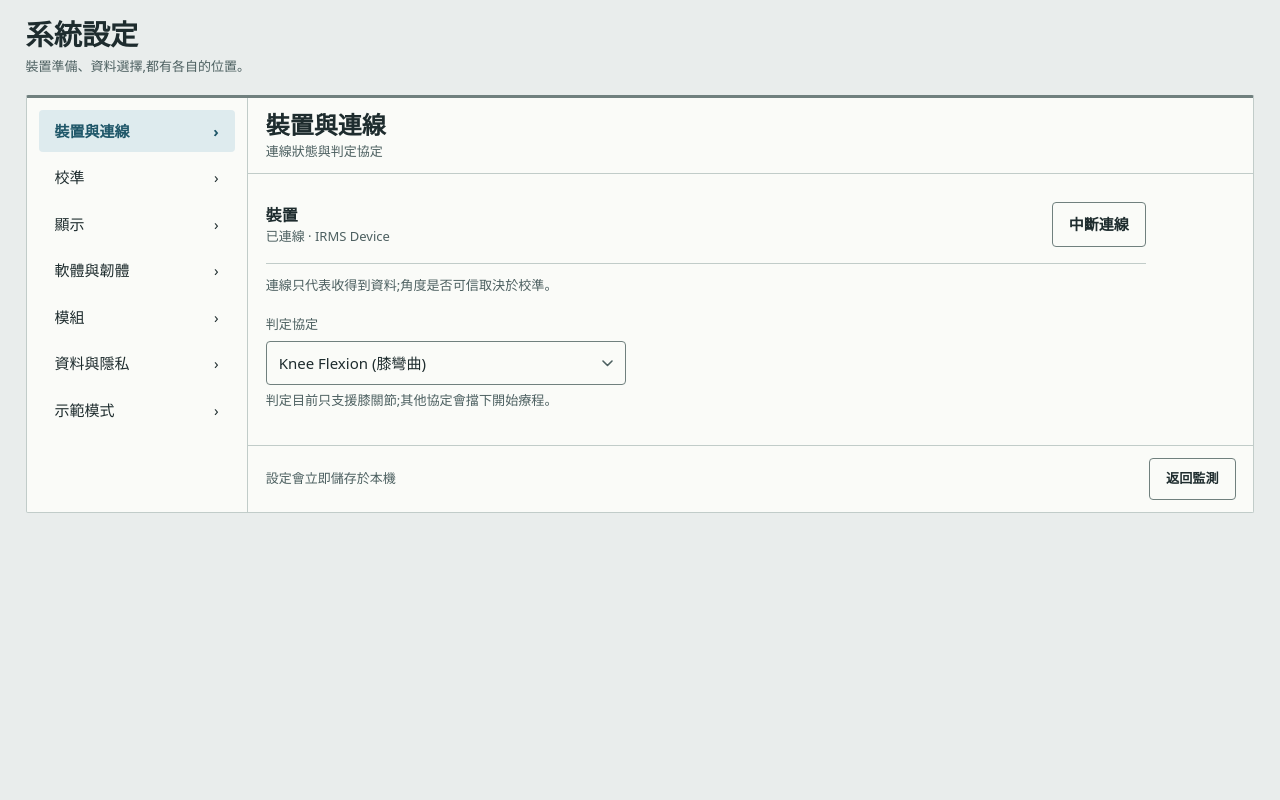
Test: SettingsView 韌體 OTA 面板:進度旅程 › 失敗時顯示錯誤文字,不冒充成功
This screenshot has width=1280, height=800.
What coordinates should you click on to do the following:
click the button "軟體與韌體 ›"
I would click on:
 (137, 270)
Its box is [39,249,235,292].
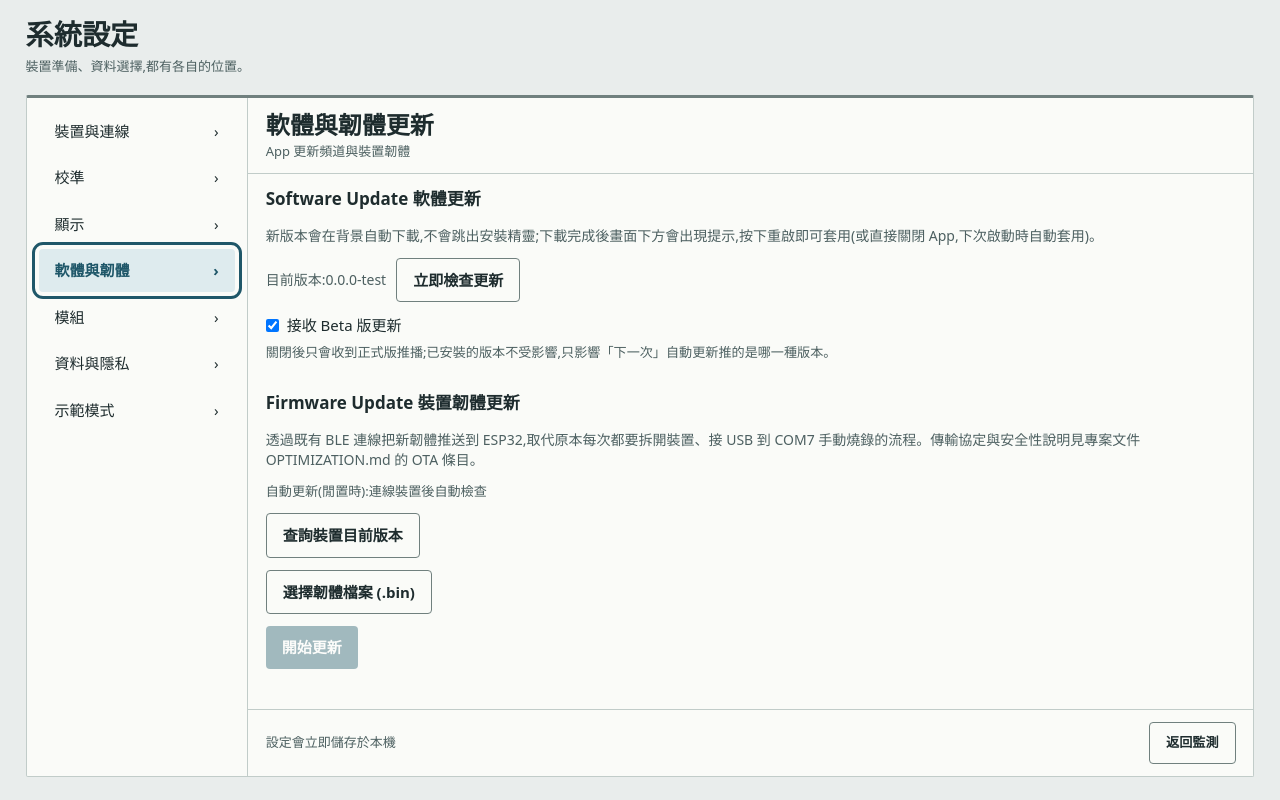
What coordinates should you click on to do the following:
click the button "選擇韌體檔案 (.bin)"
I would click on:
 (349, 592)
Its box is [266,570,432,614].
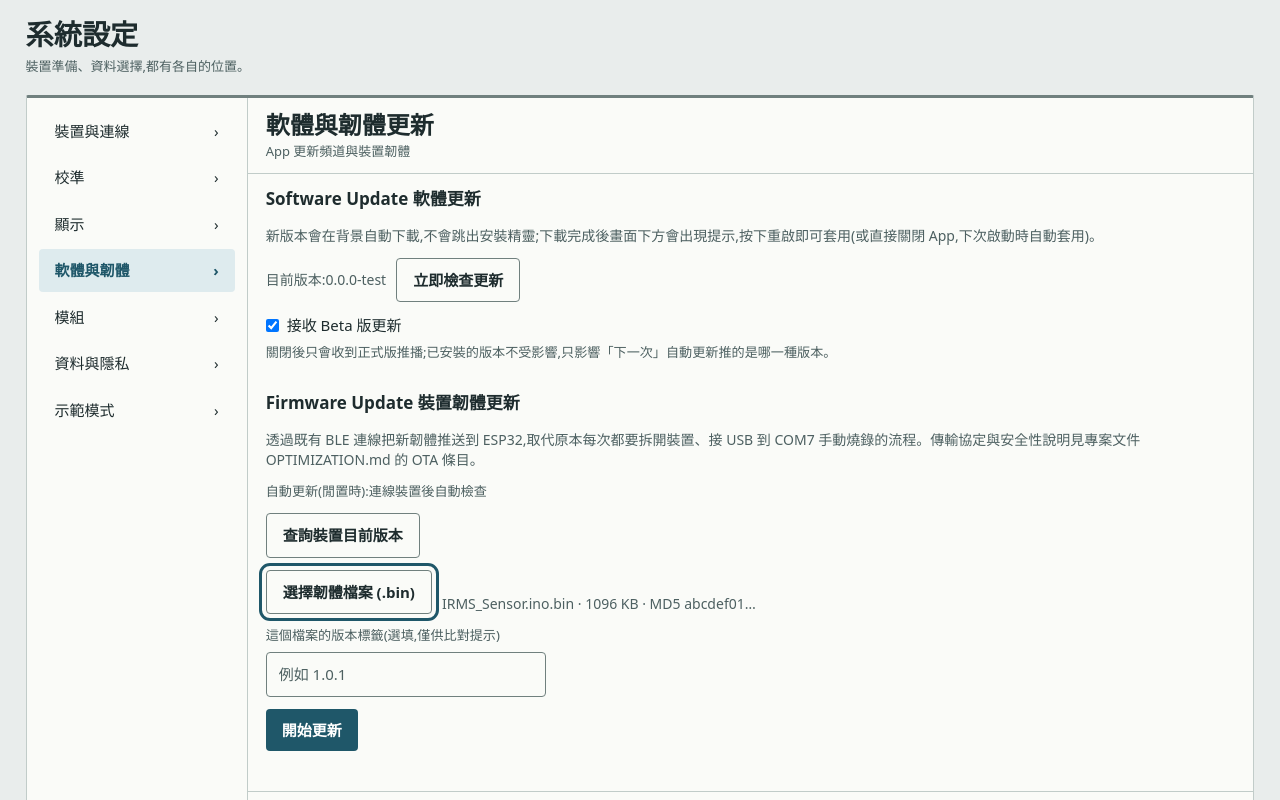
Expected: the text "IRMS_Sensor.ino.bin · 1096 KB · MD5 abcdef01…" is shown, [442,594,756,614]
What coordinates should you click on to do the following:
click the button "開始更新"
I would click on:
 (312, 730)
Its box is [266,709,358,751].
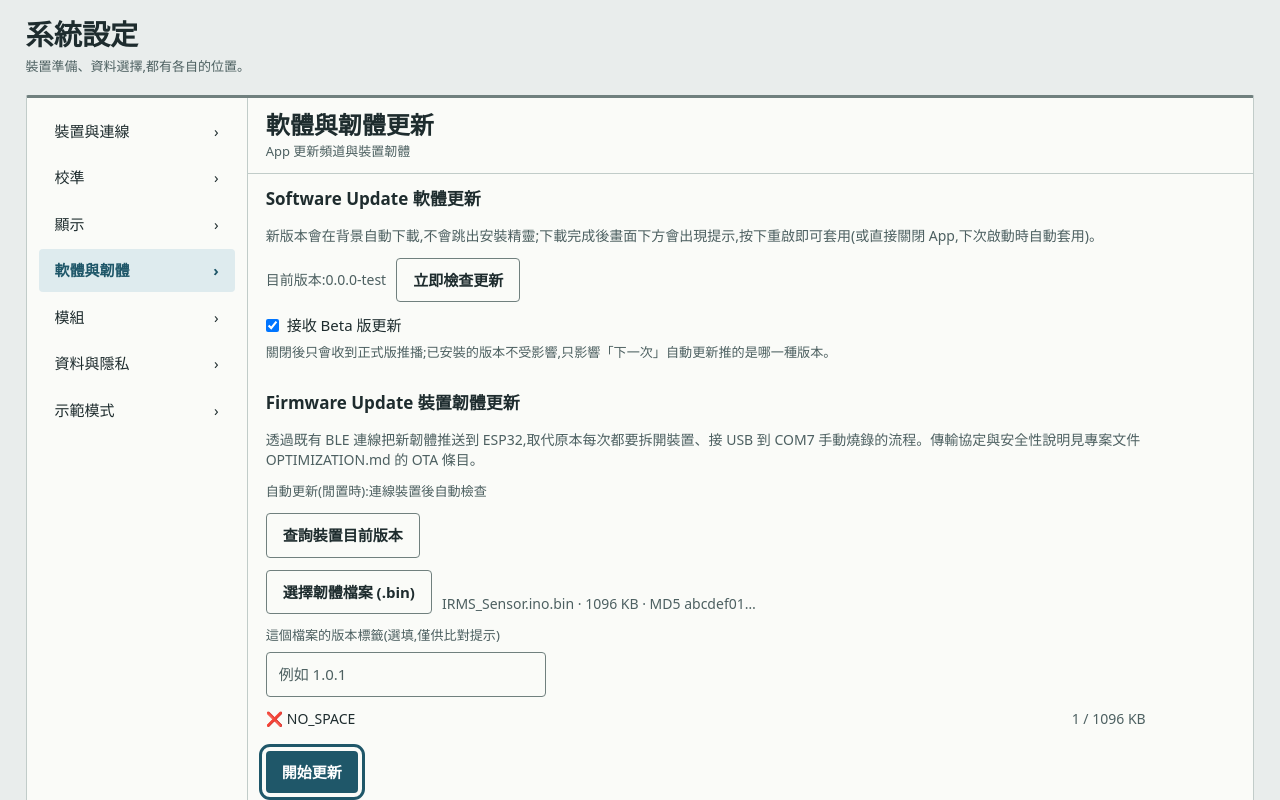
Expected: the text "❌ NO_SPACE" is shown, [266,709,355,729]
